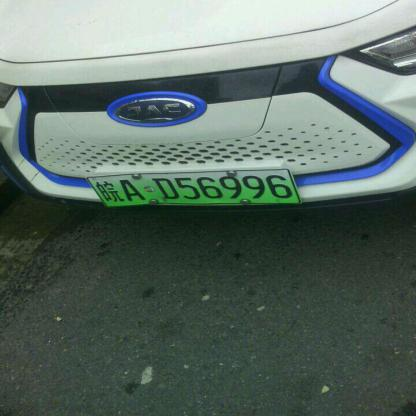lp: (87, 169, 300, 206)
